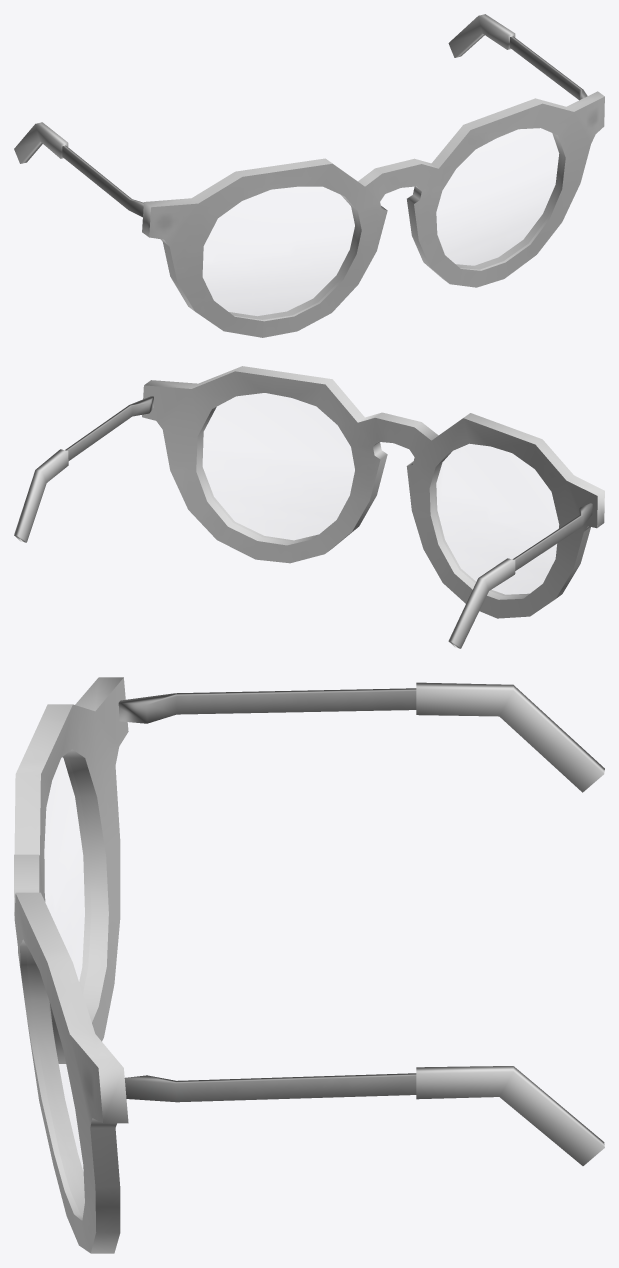
Rendered from p0_eyw1001_00_eyw00.gltf.
3 renders of one model, top to bottom at view 1: azimuth 30°, elevation 25°; view 2: azimuth 150°, elevation 25°; view 3: azimuth 270°, elevation 25°, orthographic. The views are drawn at different scales.
Parts seen in each view (by area): view 1: eyw00_frame_mesh_shape:eyewear, eyw00_temple_mesh_shape:eyewear, eyw00_lens_mesh_shape:eyewear; view 2: eyw00_frame_mesh_shape:eyewear, eyw00_temple_mesh_shape:eyewear, eyw00_lens_mesh_shape:eyewear; view 3: eyw00_frame_mesh_shape:eyewear, eyw00_temple_mesh_shape:eyewear.
Part boxes in pixels (left/top/right/bottom): eyw00_frame_mesh_shape:eyewear: left=142, top=91, right=604, bottom=337; eyw00_temple_mesh_shape:eyewear: left=14, top=14, right=587, bottom=217; eyw00_lens_mesh_shape:eyewear: left=224, top=233, right=535, bottom=319; eyw00_frame_mesh_shape:eyewear: left=142, top=366, right=604, bottom=618; eyw00_temple_mesh_shape:eyewear: left=14, top=396, right=592, bottom=648; eyw00_lens_mesh_shape:eyewear: left=225, top=512, right=537, bottom=595; eyw00_frame_mesh_shape:eyewear: left=14, top=677, right=128, bottom=1253; eyw00_temple_mesh_shape:eyewear: left=118, top=682, right=604, bottom=1165.
Size of what is drawn, in the model's own units: 0.2115 by 0.0776 by 0.1349.
Materials: 1 (1 with a texture image).
